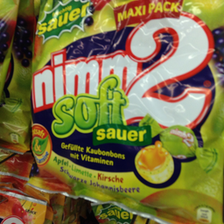candy: (36, 2, 215, 216)
